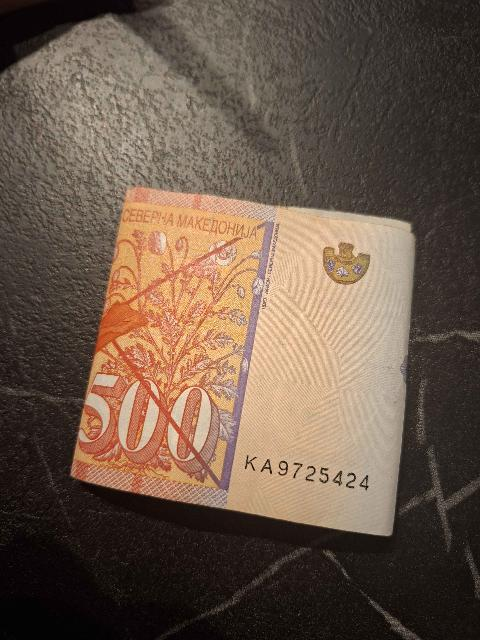500_note: (72, 189, 414, 534)
